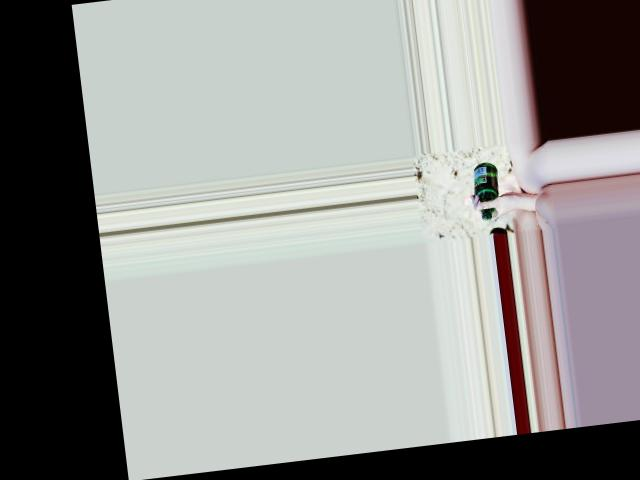beer: (471, 161, 503, 221)
